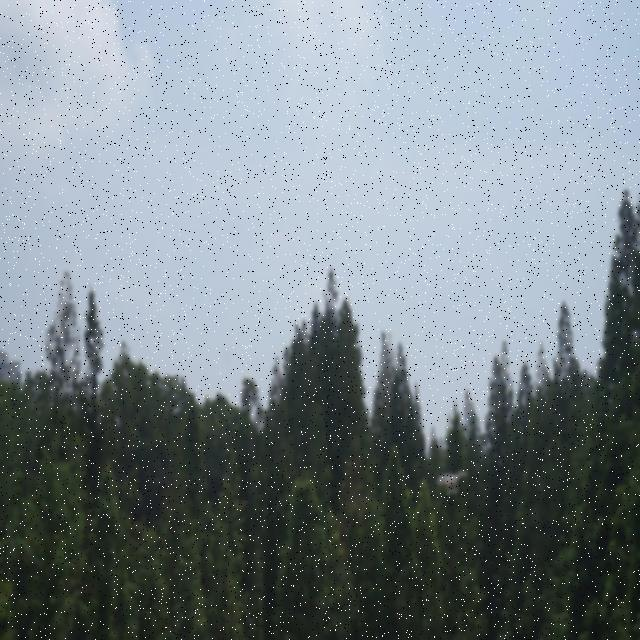UAV: (436, 470, 467, 496)
